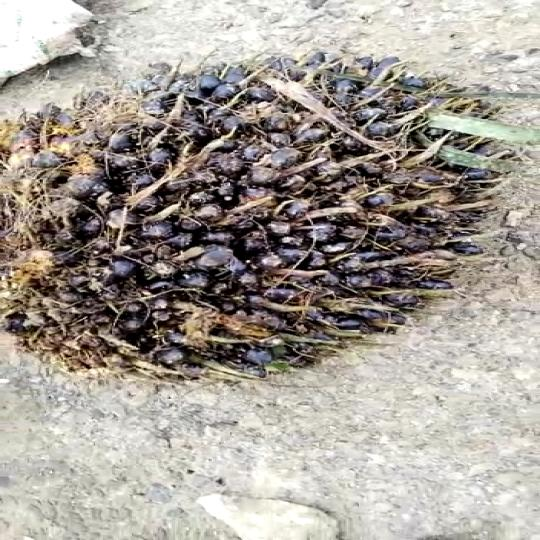mentah: (5, 49, 511, 374)
